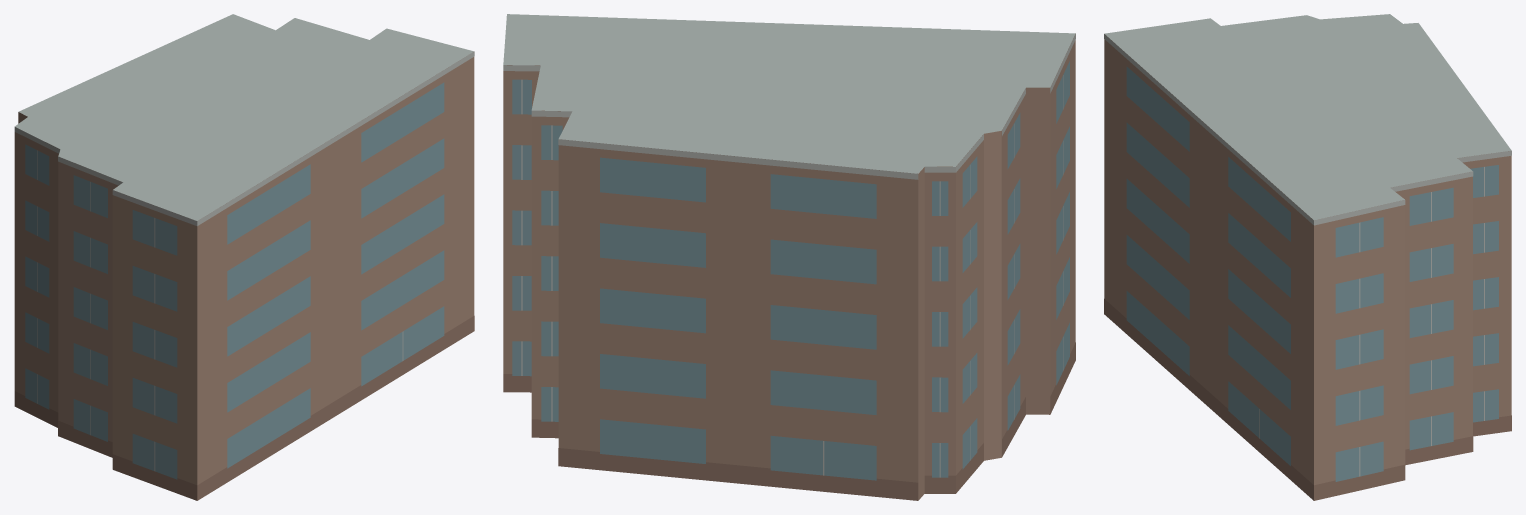
File: survey-upis-32634558.glb
3 views of the same model, side by side, from view 1: azimuth 30°, elevation 25°; view 2: azimuth 150°, elevation 25°; view 3: azimuth 270°, elevation 25° (orthographic). The views are drawn at different scales.
Parts seen in each view (by area): view 1: survey-upis-32634558.tmp; view 2: survey-upis-32634558.tmp; view 3: survey-upis-32634558.tmp.
Part boxes in pixels (box(x1,y1,x2,y2)): survey-upis-32634558.tmp: box(14, 14, 474, 500); survey-upis-32634558.tmp: box(503, 14, 1075, 500); survey-upis-32634558.tmp: box(1104, 14, 1511, 500).
Bounding box in the file's own units: 21 × 13.3 × 17.53.
